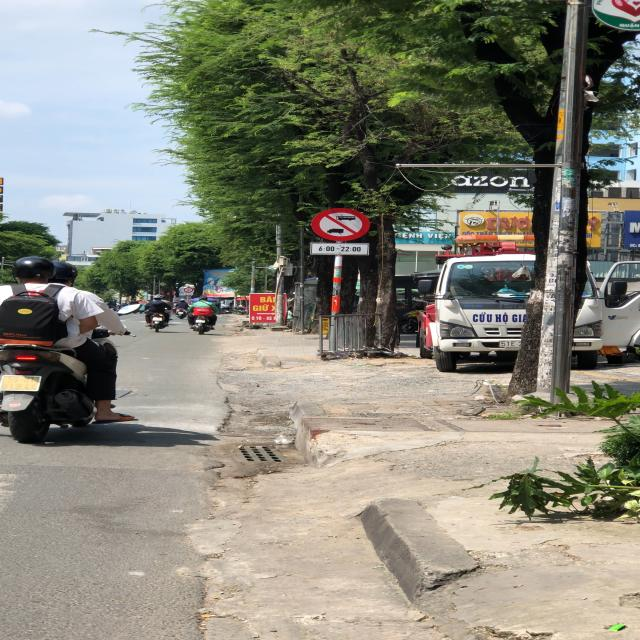Bien bao cam xe oto khach va xe oto tai: (307, 206, 377, 244)
